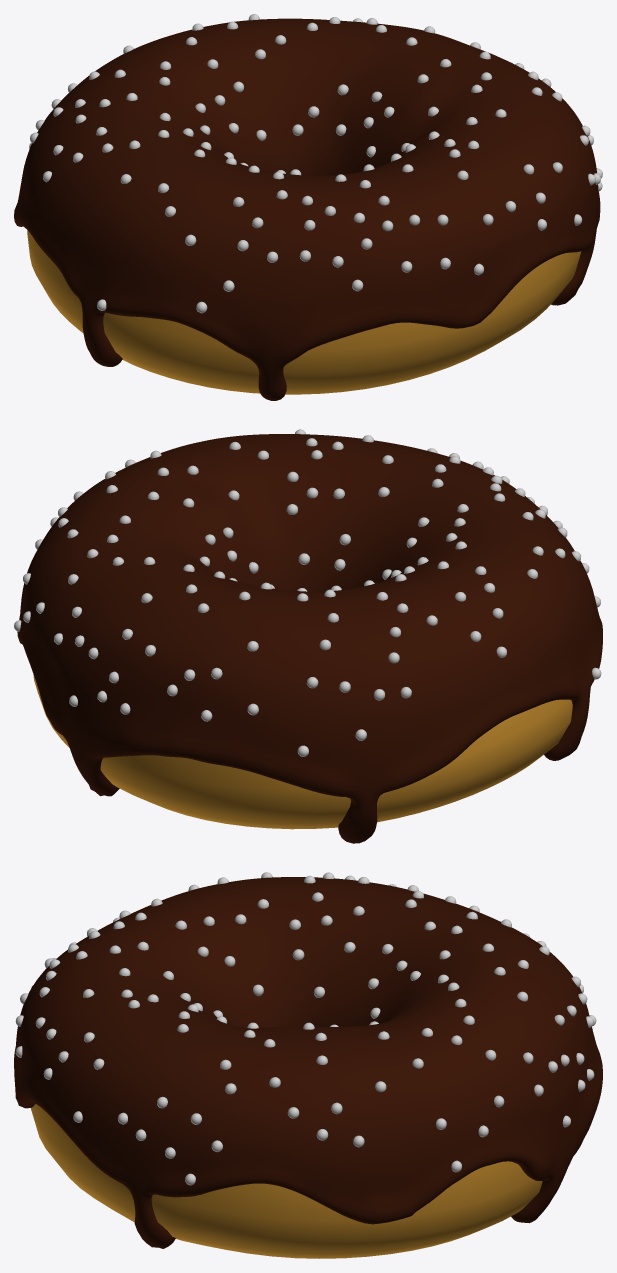
File: donut-tight-nofloor-colordough.obj
3 renders of one model, top to bottom at view 1: azimuth 30°, elevation 25°; view 2: azimuth 150°, elevation 25°; view 3: azimuth 270°, elevation 25°, orthographic.
Visible parts, largest first — view 1: Icing.less_sprinkles, Donut.less_sprinkles; view 2: Icing.less_sprinkles, Donut.less_sprinkles; view 3: Icing.less_sprinkles, Donut.less_sprinkles.
Boxes of the visible parts, box(x1,y1,x2,y2) form: Icing.less_sprinkles: box(14, 14, 602, 400); Donut.less_sprinkles: box(27, 230, 581, 394); Icing.less_sprinkles: box(14, 429, 602, 843); Donut.less_sprinkles: box(33, 674, 572, 829); Icing.less_sprinkles: box(14, 872, 602, 1248); Donut.less_sprinkles: box(30, 1104, 542, 1258).
Size of the model in its own units: 0.1189 by 0.0497 by 0.1189.
